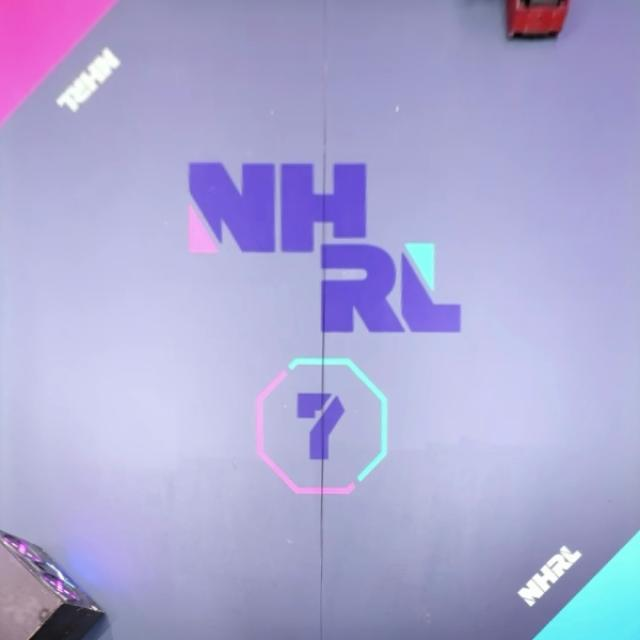housebot: (0, 530, 105, 640)
robot: (504, 0, 570, 38)
